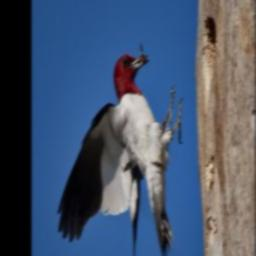Woodpecker: (57, 47, 183, 256)
